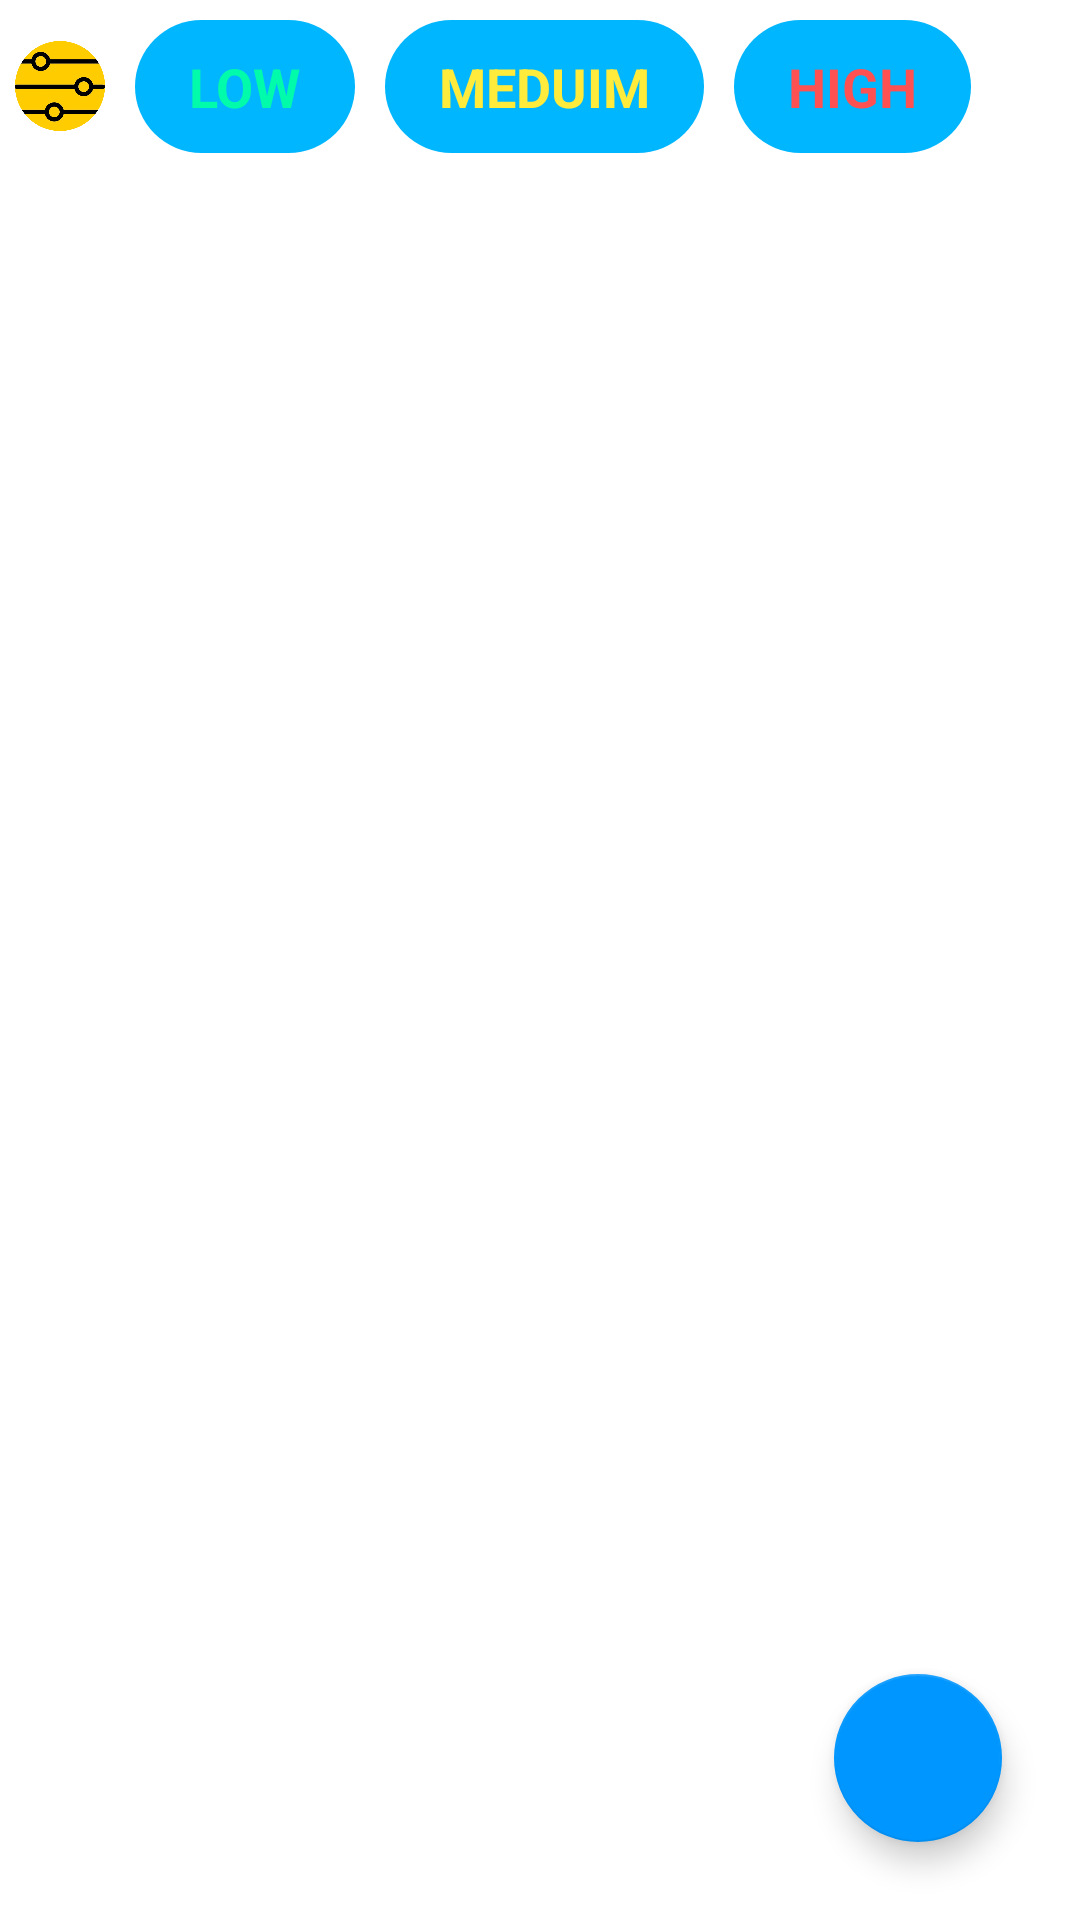

Point at icon controls on the screen. Image size 1080×1920, points as (x,y).
filter: (60,86)
